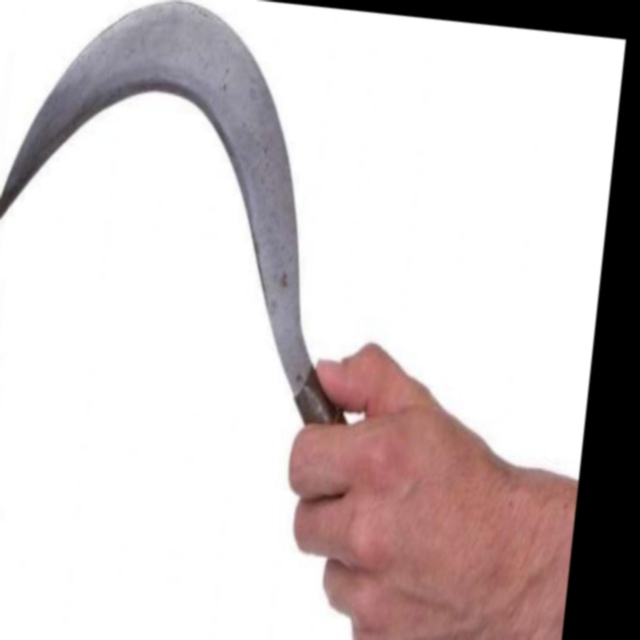Sharp-Object: (0, 0, 422, 457)
